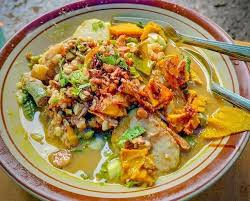soto: (1, 12, 243, 201)
